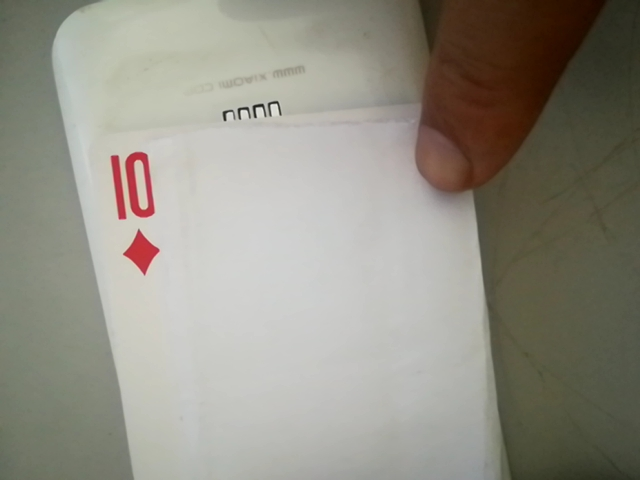fk 10: (97, 146, 173, 277)
